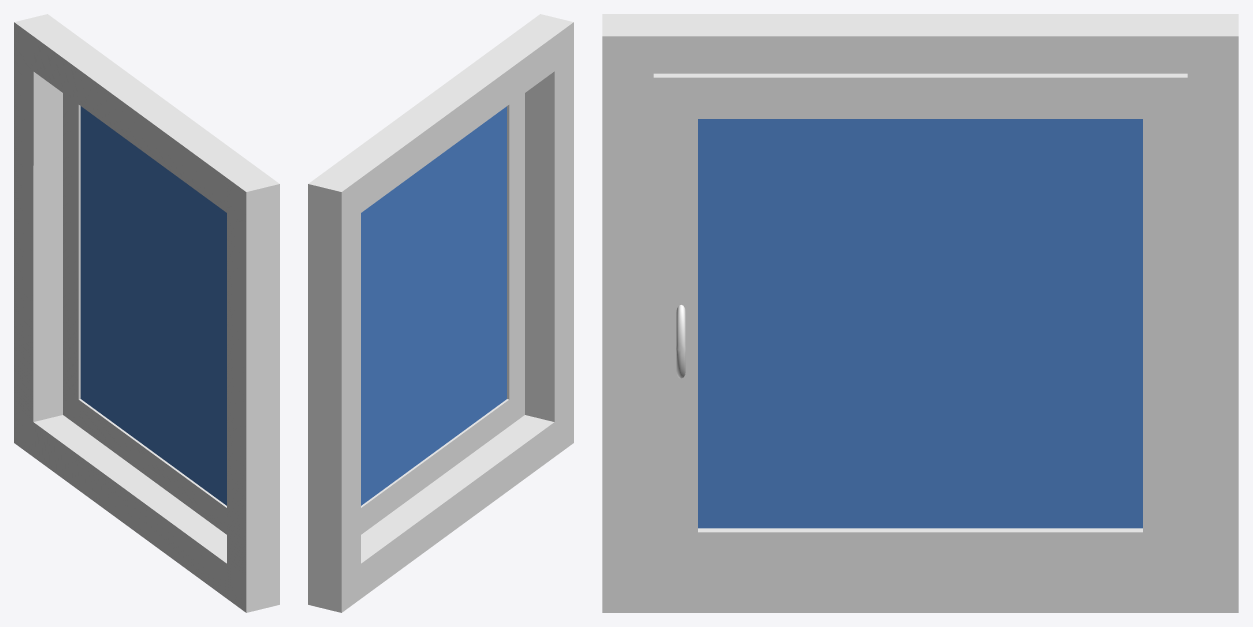
Rendered from single_window.gltf.
The picture shows the model from 3 angles, left to right: view 1: azimuth 30°, elevation 25°; view 2: azimuth 150°, elevation 25°; view 3: azimuth 270°, elevation 25°; orthographic projection. The views are drawn at different scales.
Visible parts, largest first — view 1: Cube.003; view 2: Cube.003; view 3: Cube.003.
Part boxes in pixels (x1=…): Cube.003: x1=14, y1=14, x2=279, y2=612; Cube.003: x1=308, y1=14, x2=573, y2=612; Cube.003: x1=602, y1=14, x2=1238, y2=612.
Size of the model in its own units: 0.1573 by 1.2 by 1.2.
